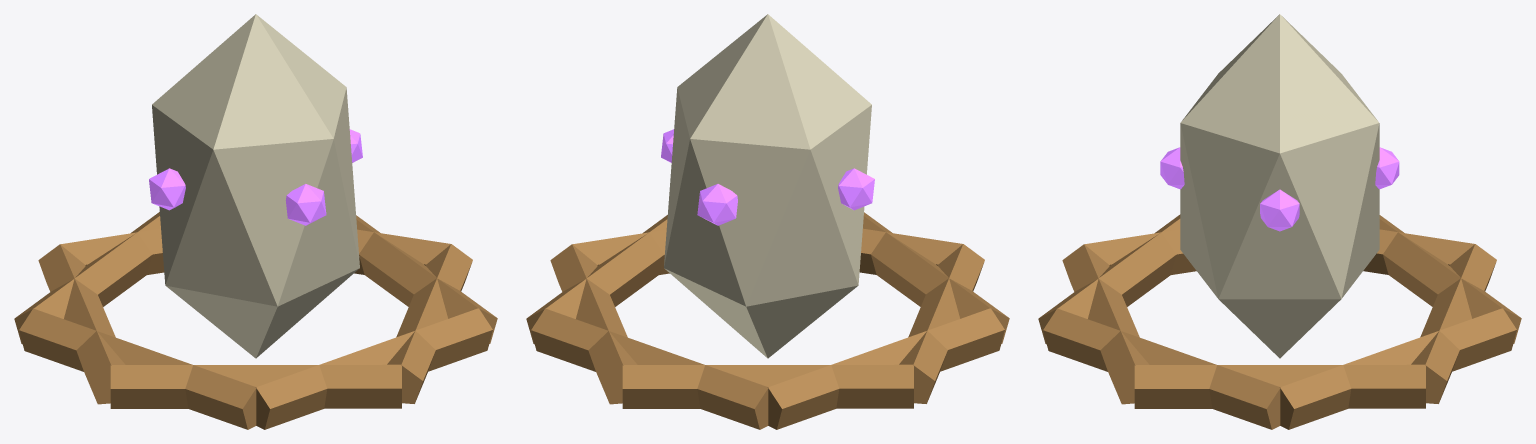
The model's file is dragon-egg.fbx.
3 renders of one model, left to right at view 1: azimuth 30°, elevation 25°; view 2: azimuth 150°, elevation 25°; view 3: azimuth 270°, elevation 25°, orthographic.
Visible parts, largest first — view 1: eggshell, nest woven branch.005, nest woven branch.004, nest woven branch.006, nest woven branch.003, nest woven branch.007, nest woven branch.002, nest woven branch.008, nest woven branch.001, nest woven branch, shell sigil.003, shell sigil.002; view 2: eggshell, nest woven branch.002, nest woven branch.001, nest woven branch.003, nest woven branch, nest woven branch.004, nest woven branch.005, nest woven branch.008, nest woven branch.006, nest woven branch.007, shell sigil.001, shell sigil.002; view 3: eggshell, nest woven branch.008, nest woven branch.007, nest woven branch, nest woven branch.006, nest woven branch.001, nest woven branch.005, nest woven branch.002, nest woven branch.004, nest woven branch.003, shell sigil, shell sigil.003 (+1 smaller).
Part boxes in pixels (x1,y1,x2,y2): eggshell: [152, 14, 359, 358]; nest woven branch.005: [110, 364, 401, 408]; nest woven branch.004: [19, 308, 256, 429]; nest woven branch.006: [256, 308, 492, 429]; nest woven branch.003: [38, 244, 125, 404]; nest woven branch.007: [387, 244, 472, 403]; nest woven branch.002: [14, 212, 160, 344]; nest woven branch.008: [356, 215, 497, 343]; nest woven branch.001: [59, 228, 164, 274]; nest woven branch: [354, 229, 451, 274]; shell sigil.003: [285, 184, 326, 225]; shell sigil.002: [149, 168, 185, 210]; eggshell: [664, 14, 871, 358]; nest woven branch.002: [622, 364, 913, 408]; nest woven branch.001: [531, 308, 768, 429]; nest woven branch.003: [768, 308, 1004, 429]; nest woven branch: [550, 244, 637, 404]; nest woven branch.004: [899, 244, 984, 403]; nest woven branch.005: [863, 212, 1009, 343]; nest woven branch.008: [526, 215, 667, 344]; nest woven branch.006: [859, 228, 963, 274]; nest woven branch.007: [571, 229, 669, 274]; shell sigil.001: [697, 184, 737, 225]; shell sigil.002: [838, 168, 874, 210]; eggshell: [1180, 14, 1379, 358]; nest woven branch.008: [1134, 364, 1425, 408]; nest woven branch.007: [1043, 308, 1280, 429]; nest woven branch: [1280, 308, 1516, 429]; nest woven branch.006: [1062, 244, 1149, 404]; nest woven branch.001: [1411, 244, 1496, 403]; nest woven branch.005: [1038, 214, 1180, 344]; nest woven branch.002: [1379, 215, 1521, 343]; nest woven branch.004: [1083, 229, 1196, 274]; nest woven branch.003: [1363, 229, 1475, 274]; shell sigil: [1260, 189, 1299, 231]; shell sigil.003: [1160, 147, 1184, 189].
Size of the model in its own units: 71.63 by 57.2 by 72.71.
